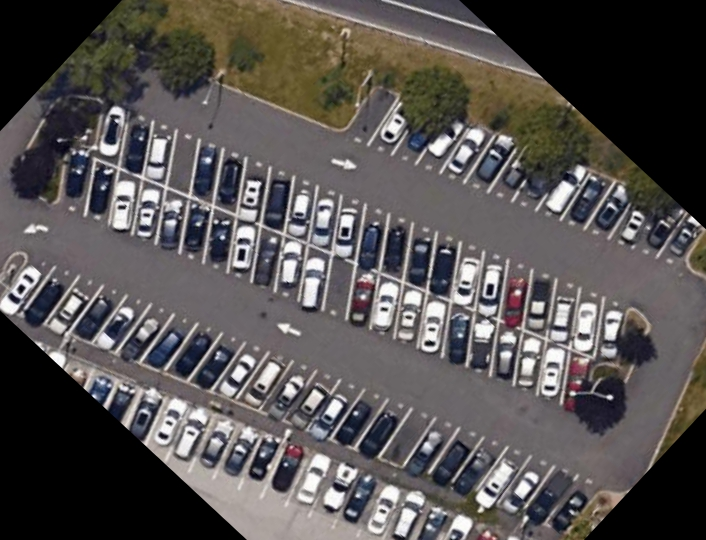parkingspot: (56, 94, 632, 429), (0, 252, 612, 539), (31, 338, 535, 540), (336, 82, 706, 271)
